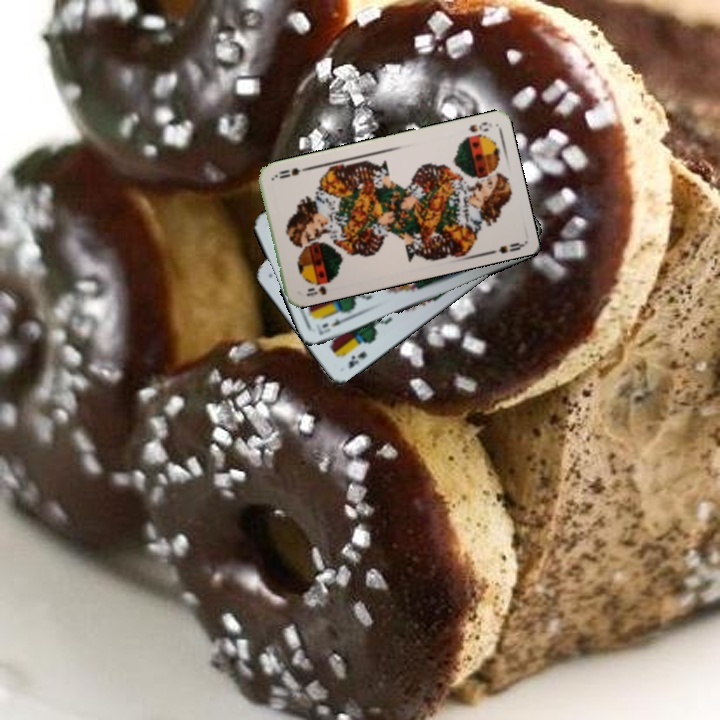EK: (313, 312, 353, 337), (344, 347, 370, 371)
SO: (302, 282, 329, 299), (465, 118, 491, 135)
